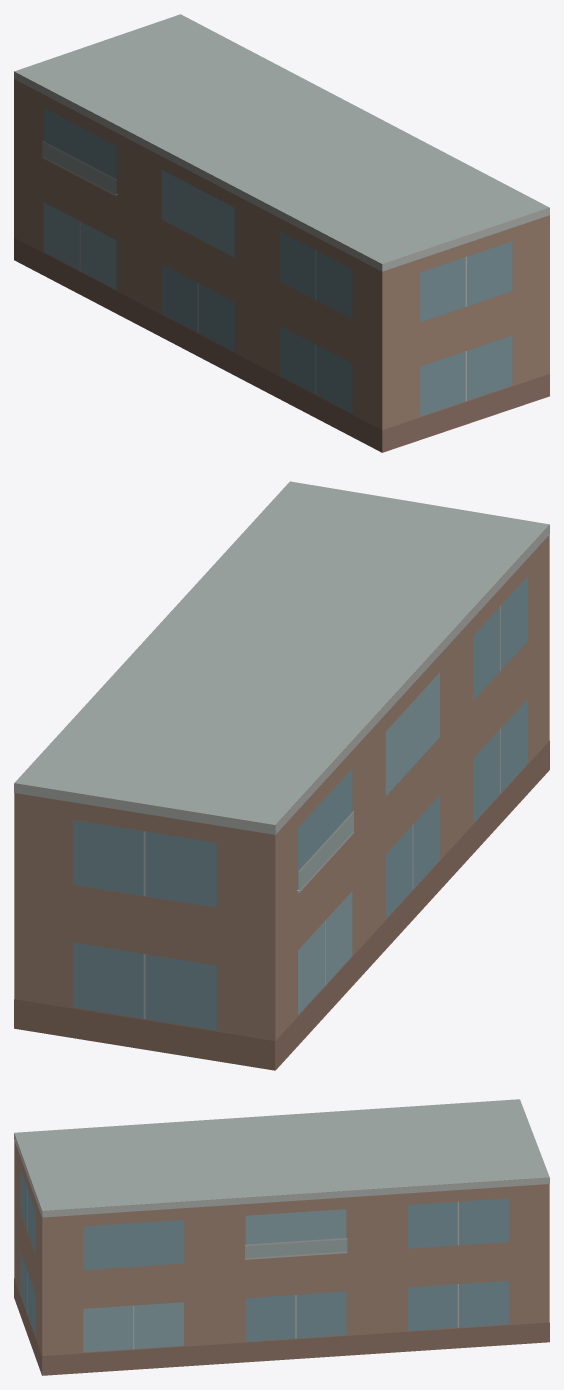
The model's file is survey-upis-32637085.glb.
3 views of the same model, one above another, from view 1: azimuth 30°, elevation 25°; view 2: azimuth 150°, elevation 25°; view 3: azimuth 270°, elevation 25° (orthographic). The views are drawn at different scales.
Visible parts, largest first — view 1: survey-upis-32637085.tmp; view 2: survey-upis-32637085.tmp; view 3: survey-upis-32637085.tmp.
Part boxes in pixels (x1,y1,x2,y2): survey-upis-32637085.tmp: (14, 14, 549, 452); survey-upis-32637085.tmp: (14, 481, 549, 1070); survey-upis-32637085.tmp: (14, 1099, 549, 1375).
Size of the model in its own units: 8.89 by 6.1 by 17.98.
